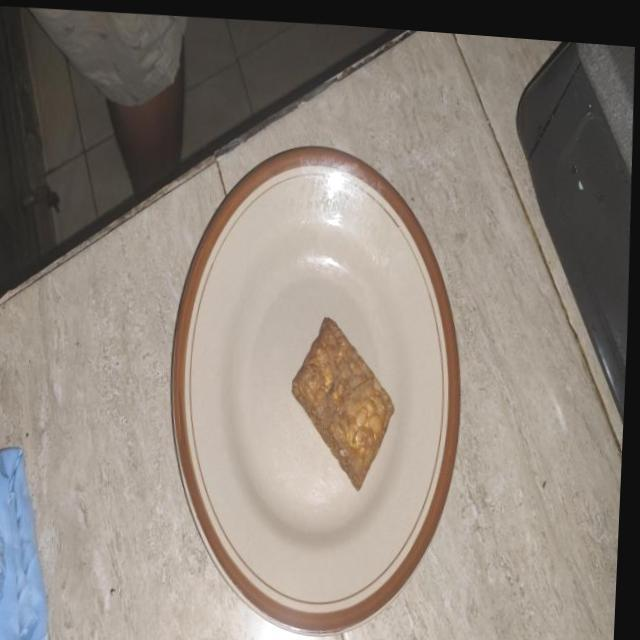tempe_goreng: (292, 318, 394, 490)
